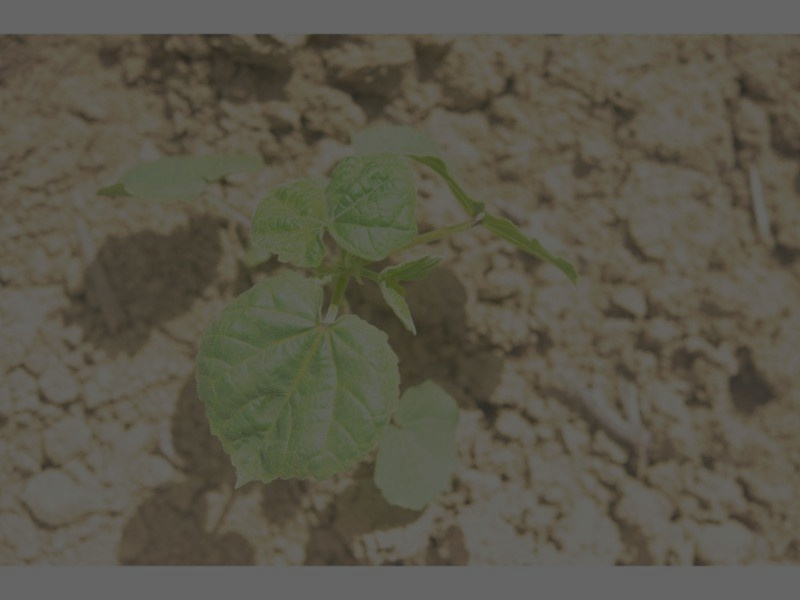velvet: (97, 122, 580, 510)
